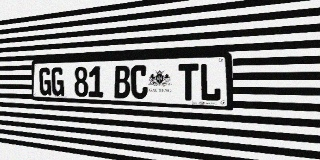1: (88, 66, 103, 97)
8: (74, 66, 88, 97)
B: (114, 65, 130, 98)
C: (131, 65, 148, 99)
G: (51, 67, 64, 96), (39, 67, 51, 96)
L: (199, 63, 221, 102)
T: (178, 64, 199, 101)
